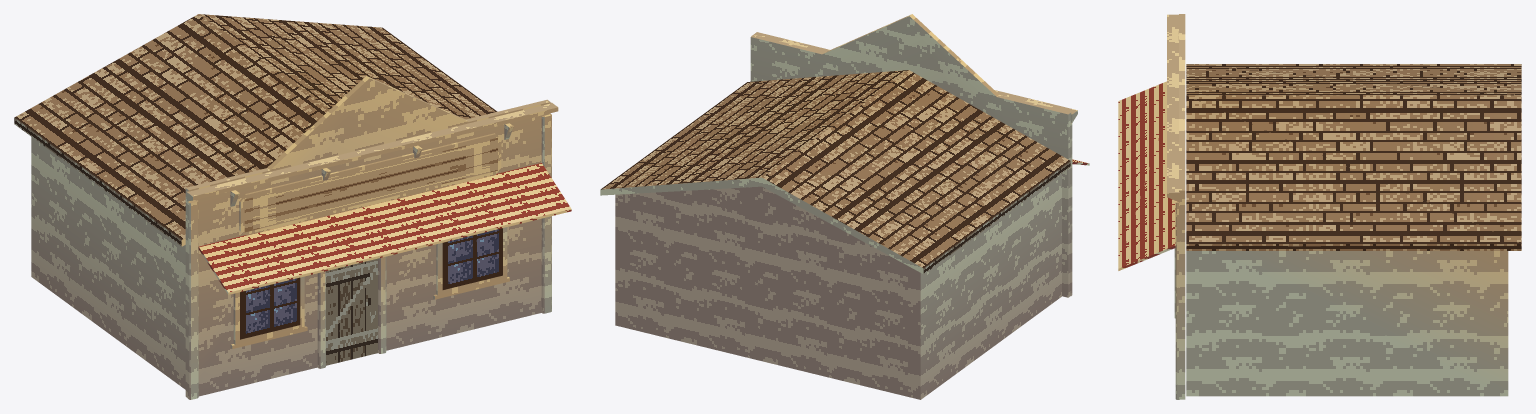
The model's file is wtown.facade__e_pediment.glb.
The picture shows the model from 3 angles, left to right: view 1: azimuth 30°, elevation 25°; view 2: azimuth 150°, elevation 25°; view 3: azimuth 270°, elevation 25°; orthographic projection. The views are drawn at different scales.
Visible parts, largest first — view 1: kit_roof, kit_front, kit_body, kit_card_panes, kit_awning, kit_trim, kit_windows; view 2: kit_body, kit_roof, kit_front, kit_trim; view 3: kit_roof, kit_body, kit_awning, kit_trim, kit_front.
Part boxes in pixels (box(x1,y1,x2,y2)): kit_roof: box(14, 14, 497, 246); kit_front: box(185, 76, 550, 397); kit_body: box(31, 137, 185, 389); kit_card_panes: box(240, 137, 502, 365); kit_awning: box(198, 163, 571, 294); kit_trim: box(186, 102, 558, 399); kit_windows: box(230, 227, 509, 348); kit_body: box(615, 173, 1061, 399); kit_roof: box(600, 70, 1070, 274); kit_front: box(750, 14, 1071, 297); kit_trim: box(752, 32, 1077, 295); kit_roof: box(1186, 64, 1521, 250); kit_body: box(1186, 251, 1508, 396); kit_awning: box(1118, 81, 1175, 270); kit_trim: box(1167, 14, 1179, 399); kit_front: box(1179, 14, 1185, 399).
Bounding box in the file's own units: 7.94 × 5.7 × 7.52.
Materials: 6 (6 with a texture image).
